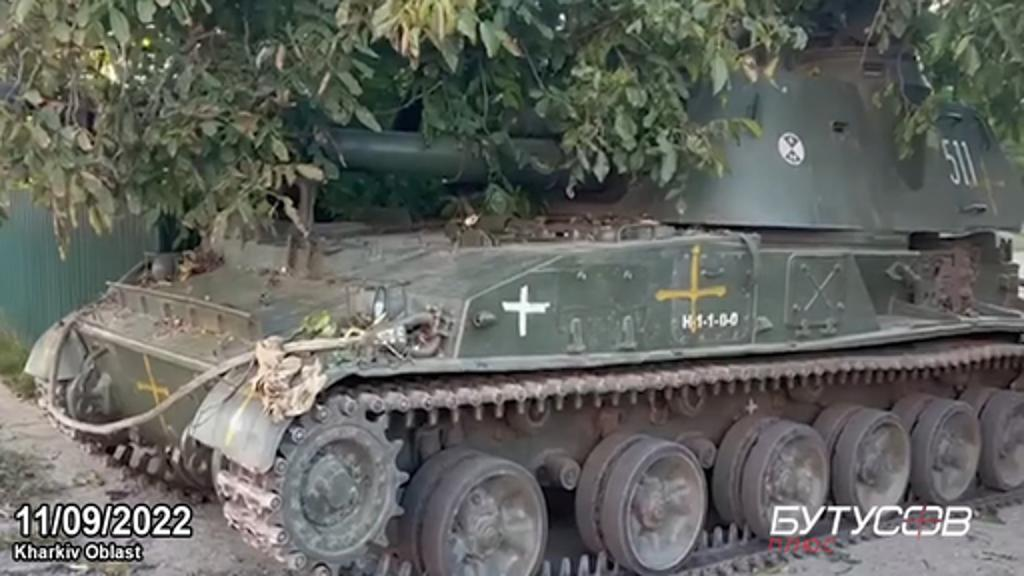ART: (22, 28, 1022, 572)
